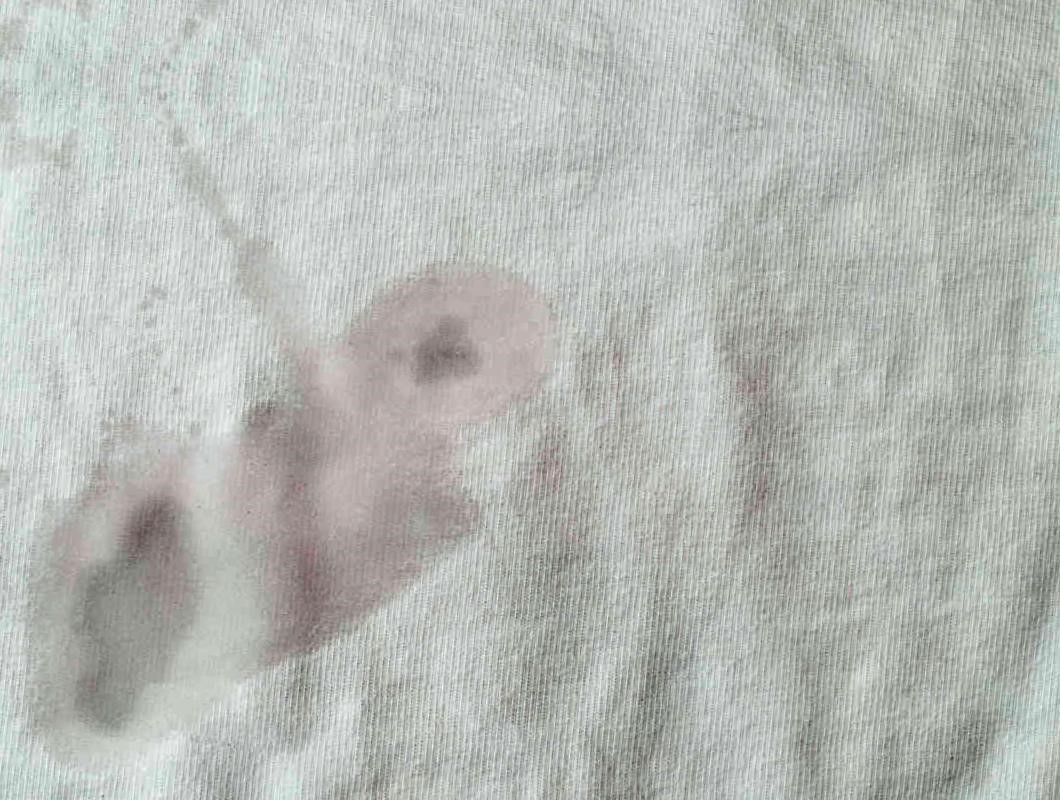stain: (10, 243, 570, 770)
